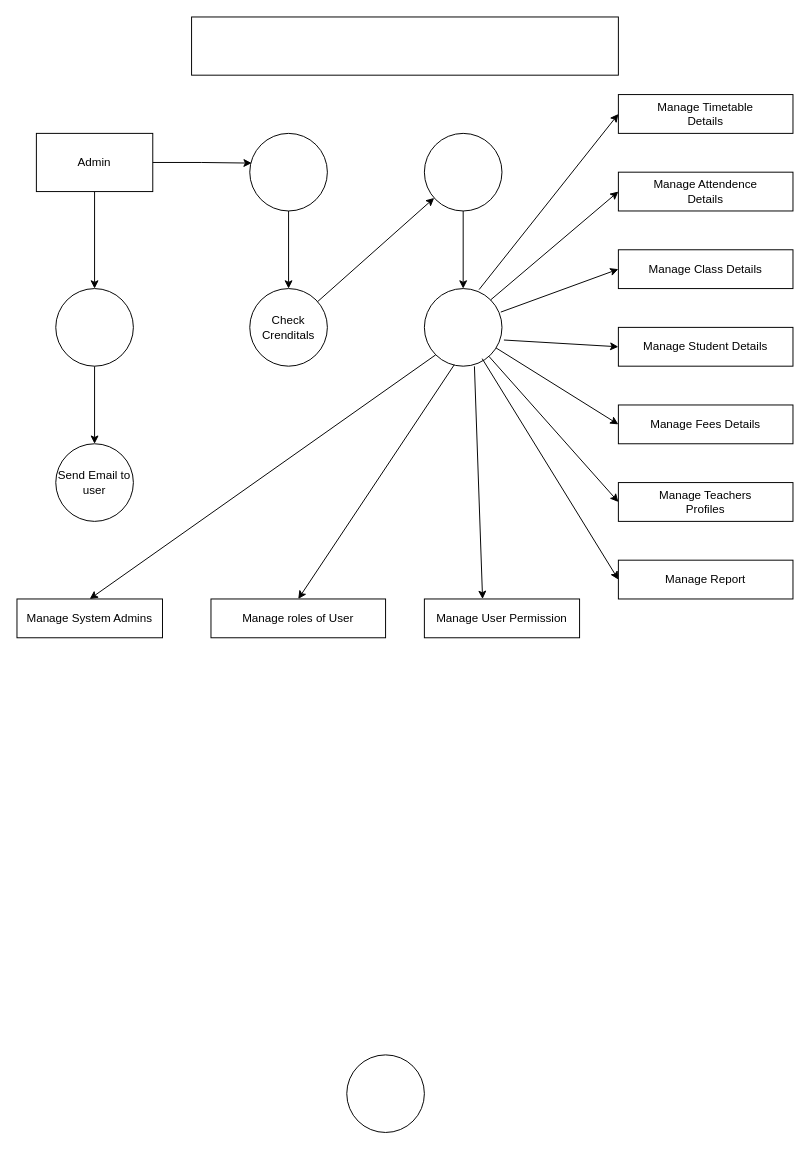
Image size: 810x1149. Some labels were removed from this diagram. Here are the shapes that lost their labels. From the top down, the centre of each, then its label:
At (x=404, y=45): "Student Information System".
At (x=288, y=171): "login to system".
At (x=462, y=171): "Check Roles of access".
At (x=94, y=327): "Forget Password".
At (x=462, y=327): "Manage Modules".
